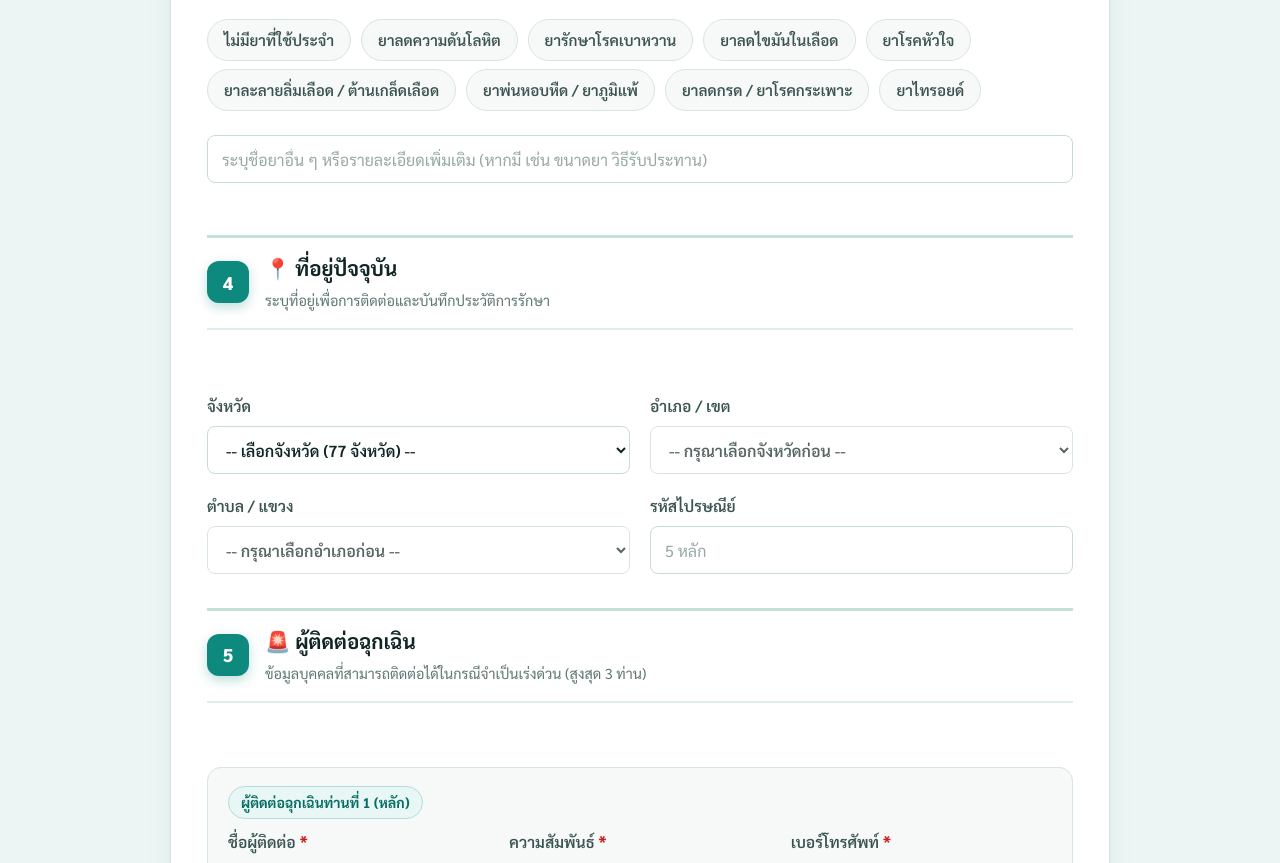
Test case: RegistrationView › cascades address dropdowns from province to district and subdistrict and fills postal code
The width and height of the screenshot is (1280, 863).
(page scrolled)
Expected: the dropdown labelled "อำเภอ / เขต" is disabled, 650,426 -> 1073,474
Expected: the dropdown labelled "ตำบล / แขวง" is disabled, 207,526 -> 630,574
Select province
Select "ขอนแก่น" in the dropdown labelled "จังหวัด": (418,450) 207,426 -> 630,474
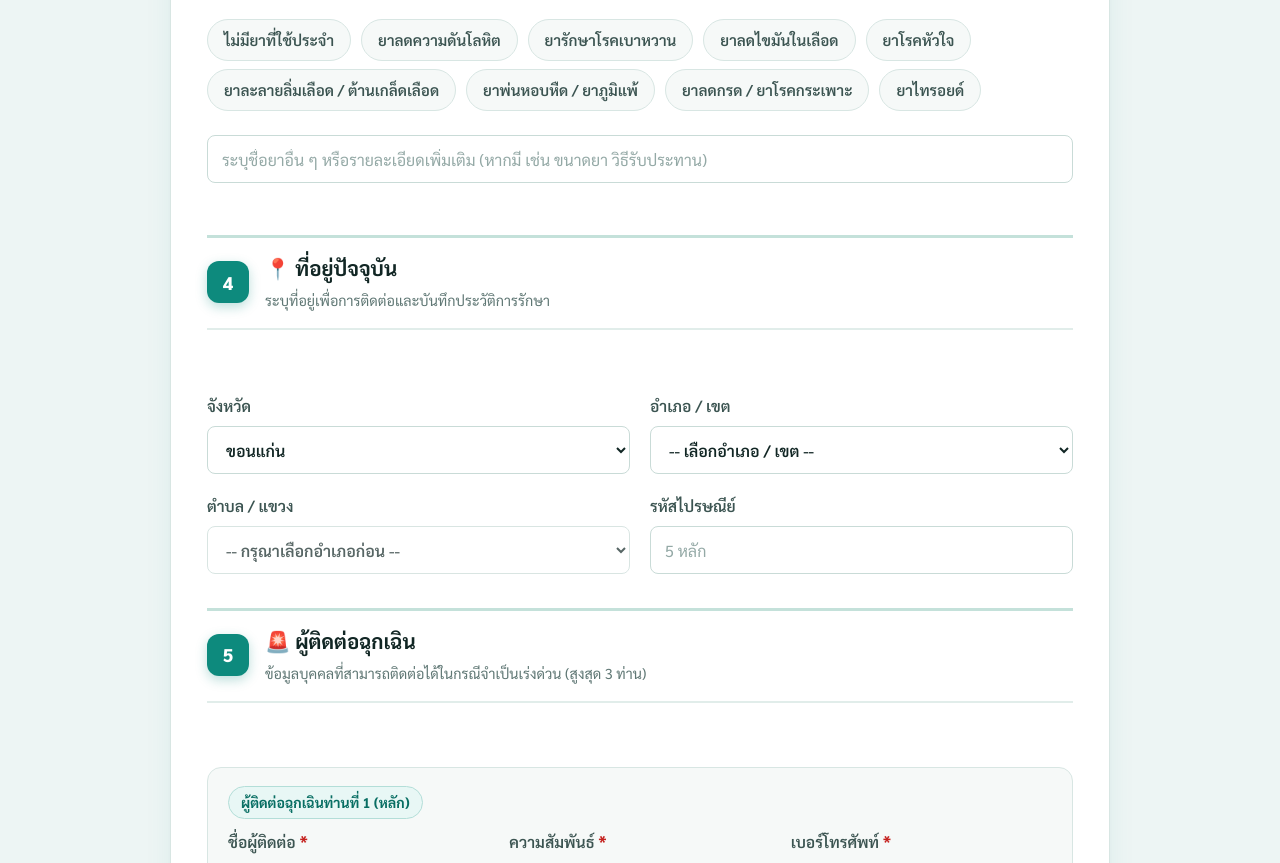
Expected: the dropdown labelled "อำเภอ / เขต" is enabled
Select district
Select "เมืองขอนแก่น" in the dropdown labelled "อำเภอ / เขต": (862,450) 650,426 -> 1073,474
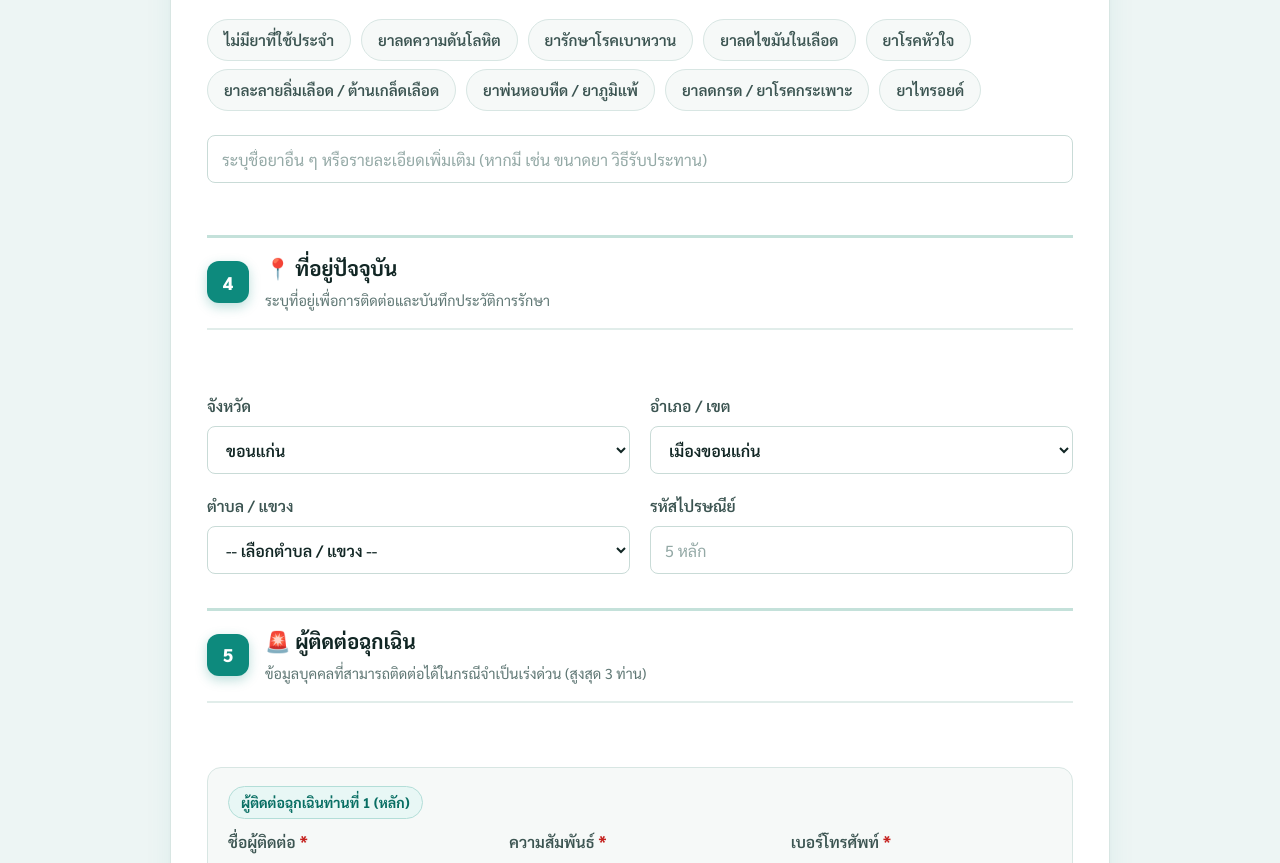
Expected: the dropdown labelled "ตำบล / แขวง" is enabled
Select subdistrict
Select "ศิลา" in the dropdown labelled "ตำบล / แขวง": (418,550) 207,526 -> 630,574
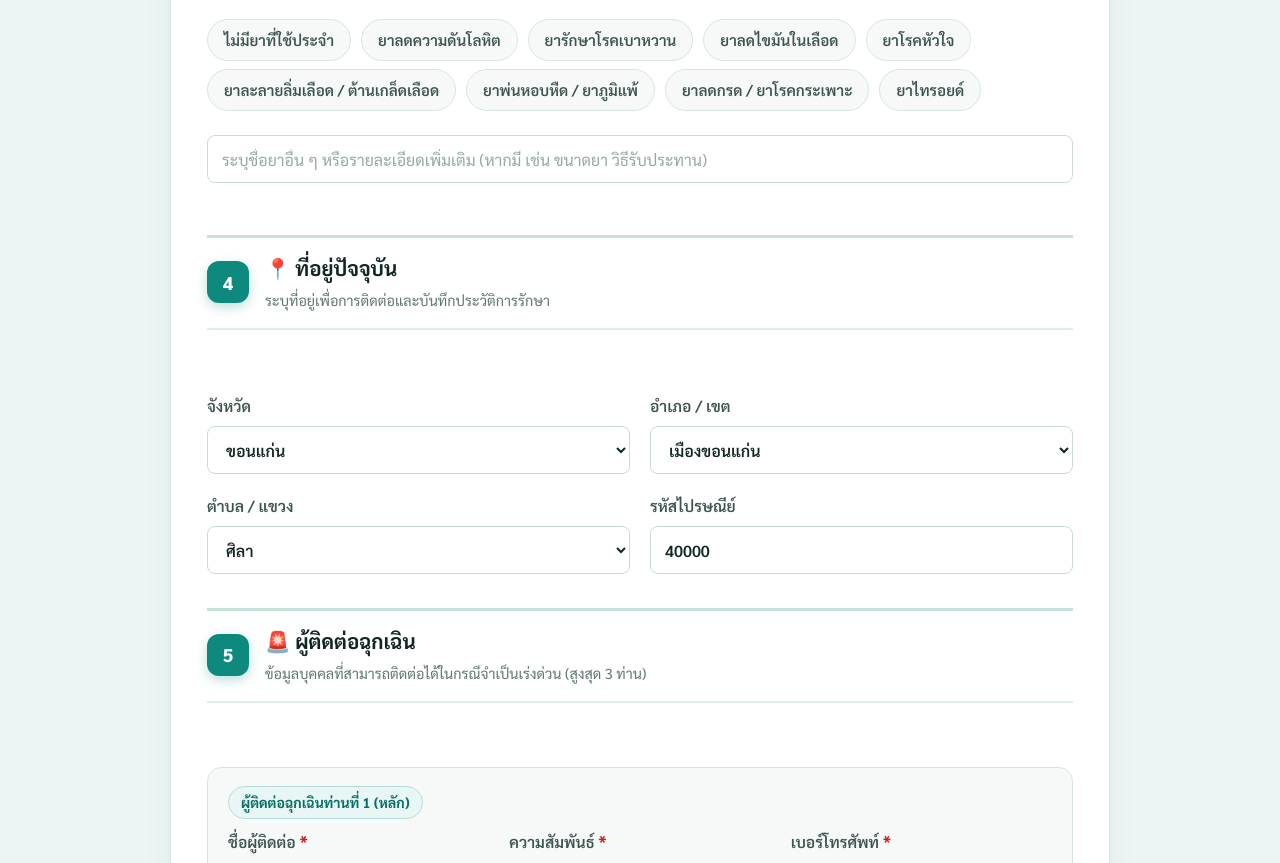
Expected: the field labelled "รหัสไปรษณีย์" holds "40000", 650,526 -> 1073,574
